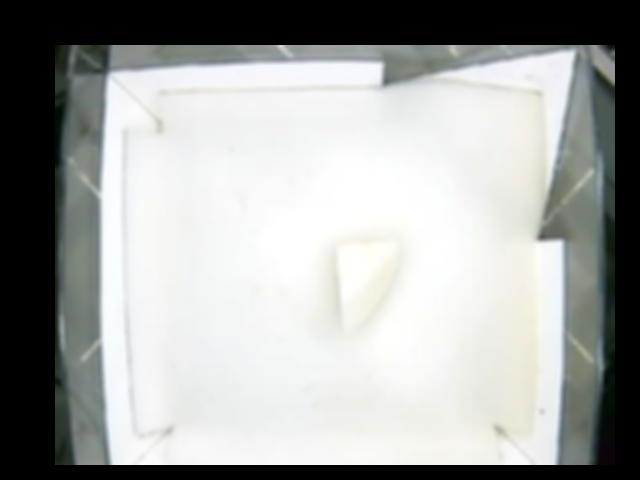Mooli: (337, 238, 402, 332)
